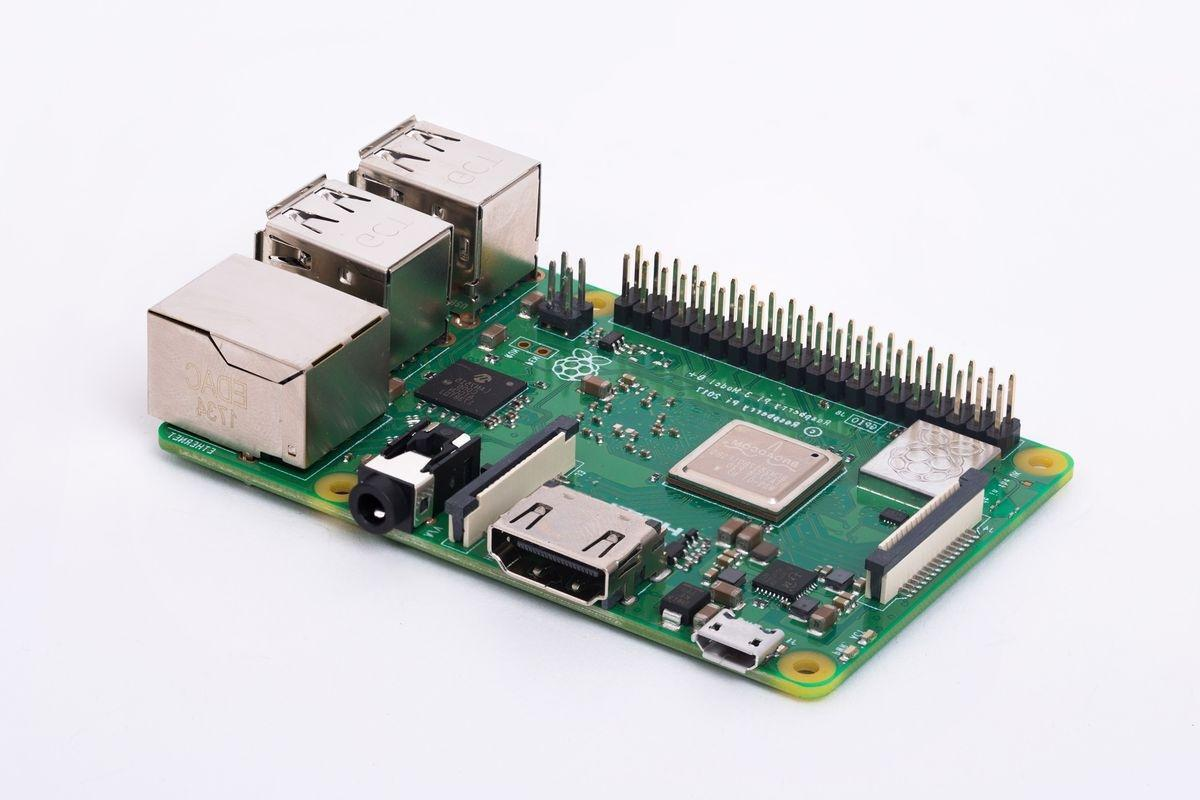audiojack: (349, 416, 483, 540)
bchi: (661, 406, 842, 519)
ethernet: (142, 252, 390, 467)
gpio: (611, 249, 1023, 457)
usb: (356, 115, 545, 319)
